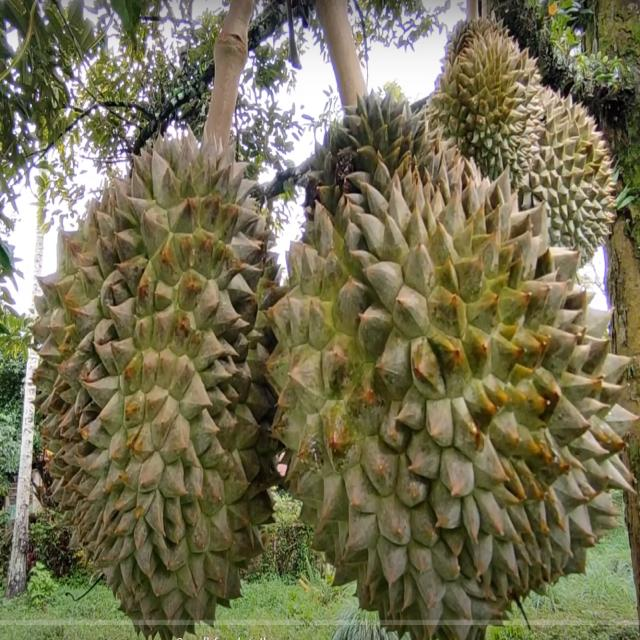immature: (268, 94, 634, 616), (24, 121, 274, 616), (416, 19, 616, 274)
